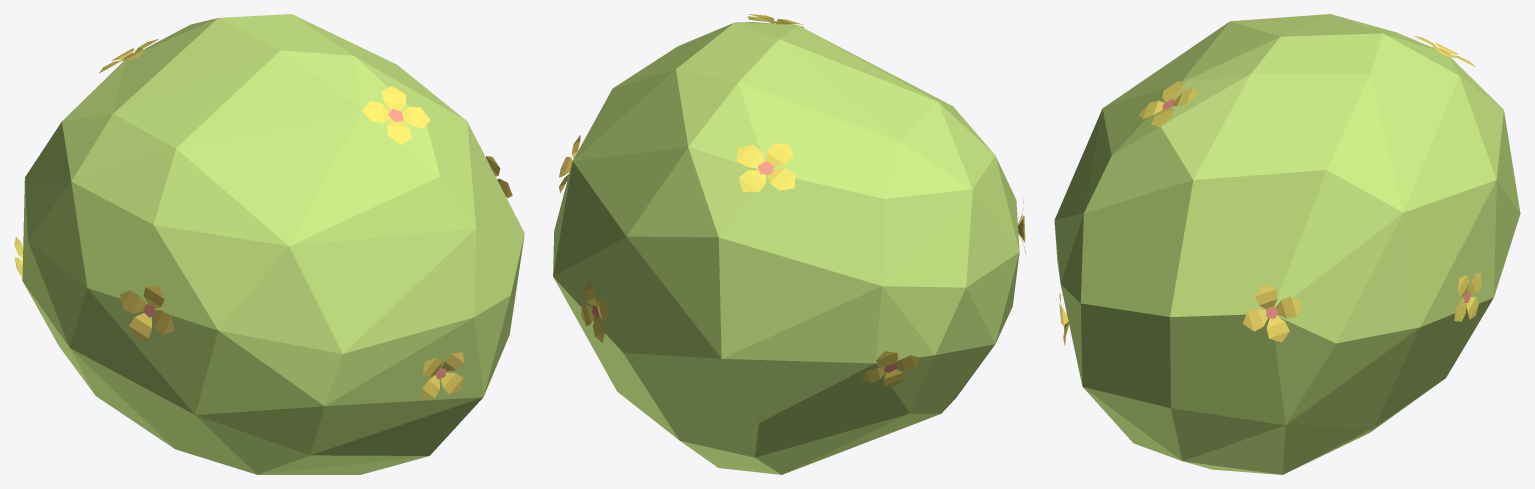
The model's file is FlowerBush_a_l_03.fbx.
The picture shows the model from 3 angles, left to right: view 1: azimuth 30°, elevation 25°; view 2: azimuth 150°, elevation 25°; view 3: azimuth 270°, elevation 25°; orthographic projection. The views are drawn at different scales.
Visible parts, largest first — view 1: FlowerBush_a_l_03_LOD0; view 2: FlowerBush_a_l_03_LOD0; view 3: FlowerBush_a_l_03_LOD0.
Boxes of the visible parts, box(x1,y1,x2,y2) form: FlowerBush_a_l_03_LOD0: box(14, 14, 524, 474); FlowerBush_a_l_03_LOD0: box(553, 14, 1025, 474); FlowerBush_a_l_03_LOD0: box(1054, 14, 1520, 474).
Size of what is drawn, in the model's own units: 307 by 280 by 287.
